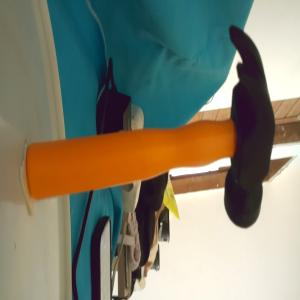martelo: (26, 24, 276, 228)
